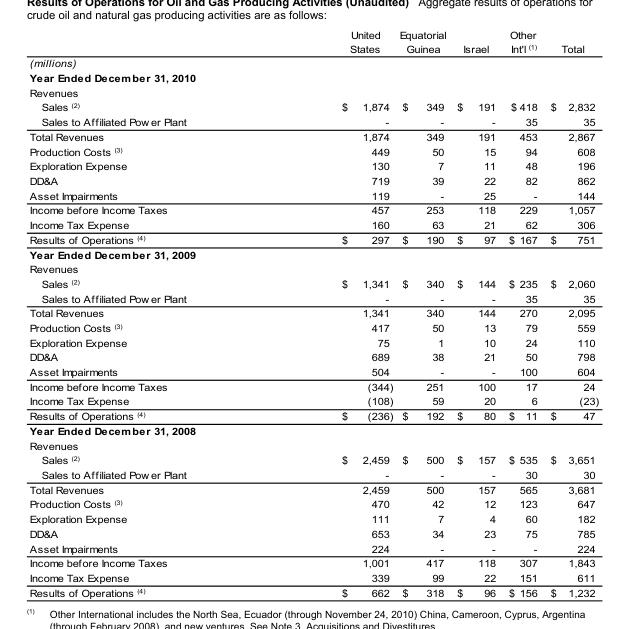table: (28, 28, 598, 597)
table column: (28, 28, 263, 597), (263, 28, 395, 597), (395, 28, 451, 597), (543, 28, 598, 597), (451, 28, 501, 597), (501, 28, 543, 597)
table column header: (28, 28, 598, 55)
table projected row header: (28, 55, 598, 70), (28, 84, 598, 99), (28, 246, 598, 261), (28, 437, 598, 452), (28, 70, 598, 84), (28, 261, 598, 275), (28, 423, 598, 437)
table row: (28, 28, 598, 55), (28, 55, 598, 70), (28, 84, 598, 99), (28, 99, 598, 114), (28, 128, 598, 143), (28, 143, 598, 158), (28, 158, 598, 173), (28, 187, 598, 202), (28, 202, 598, 217), (28, 231, 598, 246), (28, 246, 598, 261), (28, 275, 598, 290), (28, 290, 598, 305), (28, 305, 598, 320), (28, 334, 598, 349), (28, 349, 598, 364), (28, 378, 598, 393), (28, 393, 598, 408), (28, 408, 598, 423), (28, 437, 598, 452), (28, 452, 598, 467), (28, 481, 598, 496), (28, 496, 598, 511), (28, 525, 598, 540), (28, 540, 598, 555), (28, 555, 598, 570), (28, 70, 598, 84), (28, 114, 598, 128), (28, 173, 598, 187), (28, 217, 598, 231), (28, 261, 598, 275), (28, 320, 598, 334), (28, 364, 598, 378), (28, 423, 598, 437), (28, 467, 598, 481), (28, 511, 598, 525), (28, 570, 598, 584), (28, 584, 598, 597)
